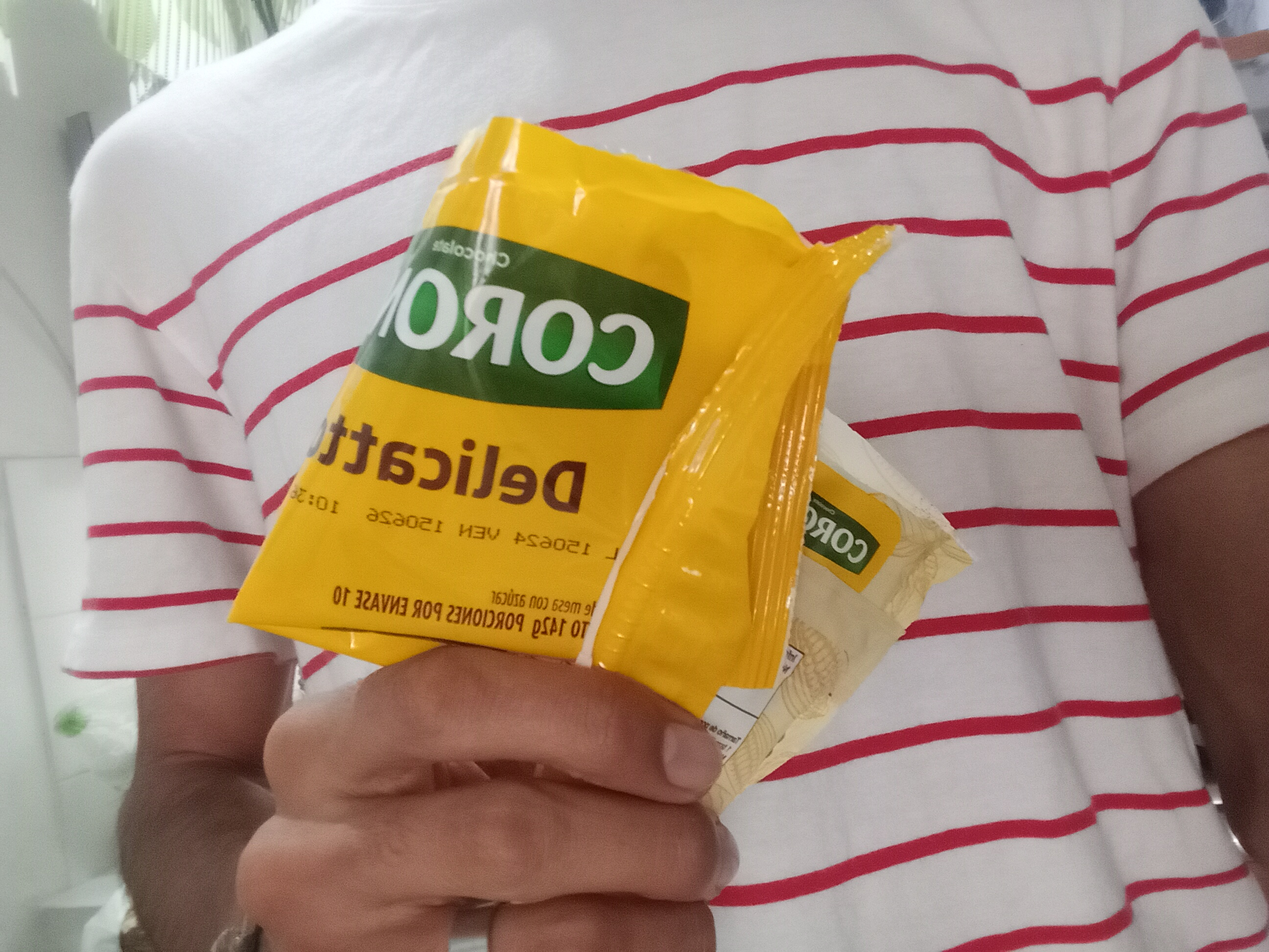Ordinario: (227, 113, 980, 815)
